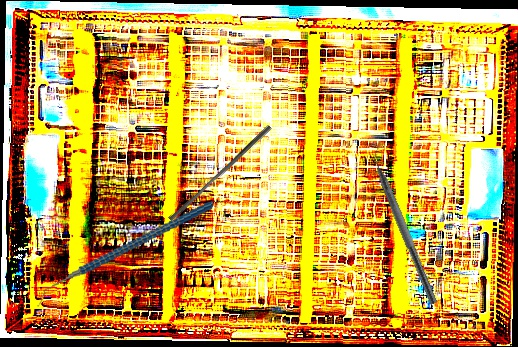Chopper: (26, 201, 224, 307), (363, 140, 449, 306)
Pusher: (168, 121, 272, 225)
